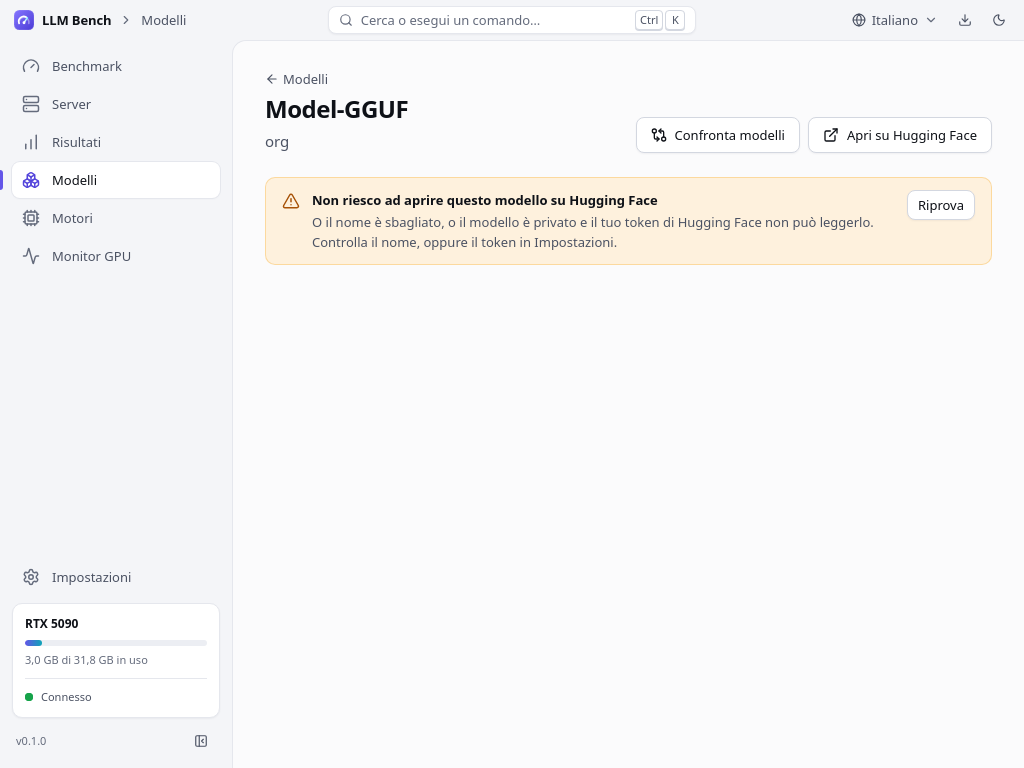
Test: model page › a private repo with a token already saved: check the name or the token; any other error keeps its own words
The width and height of the screenshot is (1024, 768).
Expected: the text "il tuo token di Hugging Face non può leggerlo" is shown, [312,213,874,251]
What coordinates should you click on to do the following:
click the button "Riprova"
I would click on:
 (941, 205)
Its box is [907,190,975,220].
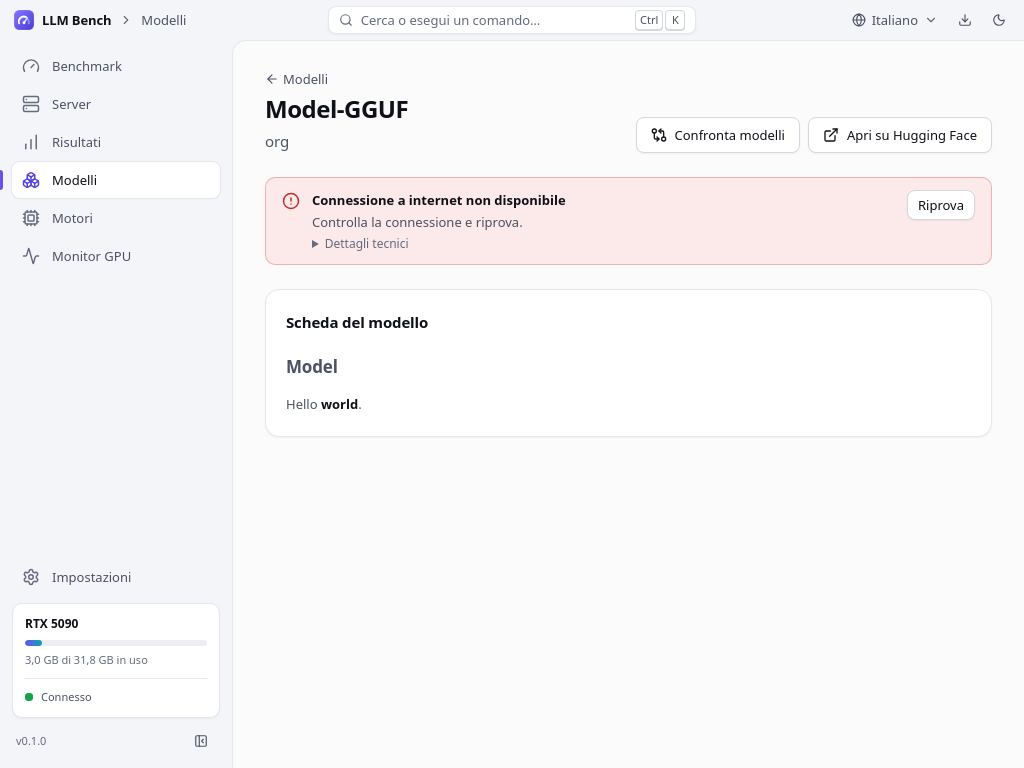
Expected: the text "Non riesco ad aprire questo modello su Hugging Face" is gone
